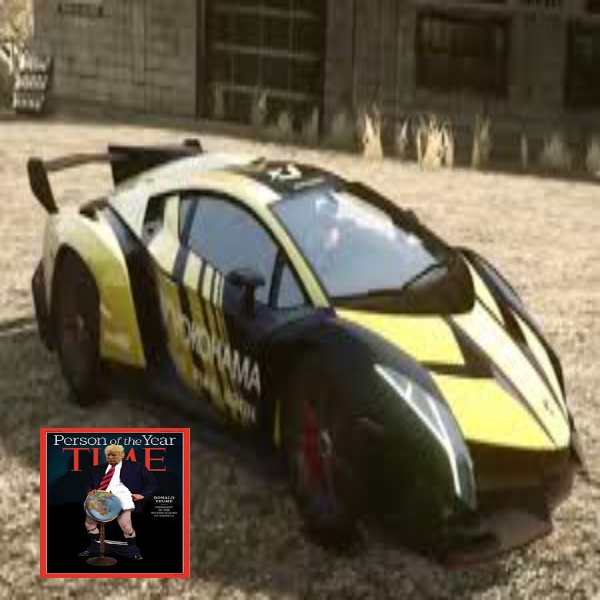time_cover: (39, 417, 195, 581)
